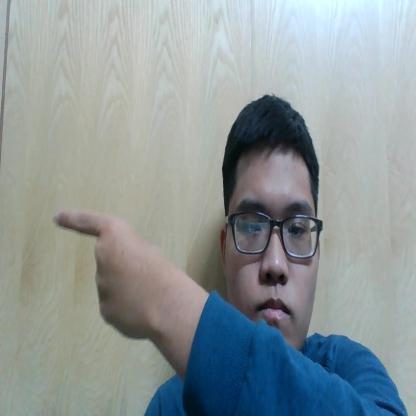right: (46, 201, 175, 351)
